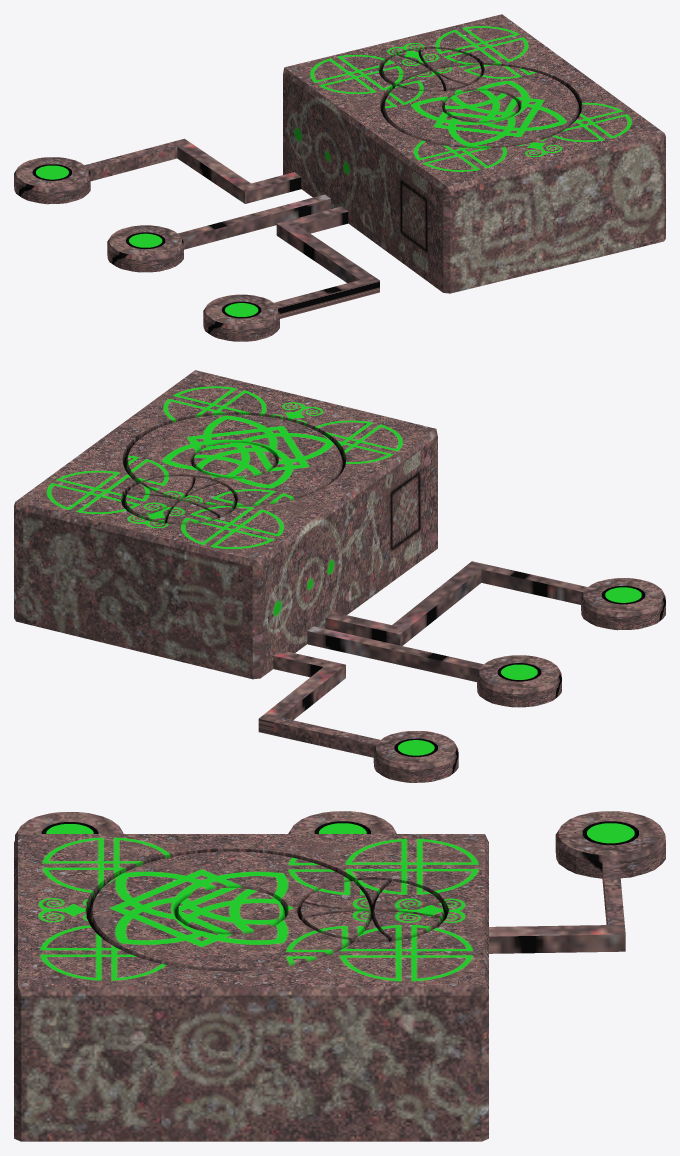
File: puzzle.fbx
3 renders of one model, top to bottom at view 1: azimuth 30°, elevation 25°; view 2: azimuth 150°, elevation 25°; view 3: azimuth 270°, elevation 25°, orthographic. The views are drawn at different scales.
Visible parts, largest first — view 1: BASE, circulo mayor, circulo menor, seccionado.002, seccionado.001, seccionado.003, seccionado.004; view 2: BASE, circulo mayor, circulo menor, seccionado.001, seccionado.002, seccionado.004, seccionado.003; view 3: BASE, circulo mayor, circulo menor, seccionado.002, seccionado.001, seccionado.004, seccionado.003, seccionado.008.
Part boxes in pixels (left/top/right/bottom): BASE: left=14, top=14, right=665, bottom=341; circulo mayor: left=383, top=64, right=579, bottom=148; circulo menor: left=443, top=90, right=519, bottom=122; seccionado.002: left=419, top=48, right=466, bottom=71; seccionado.001: left=433, top=64, right=482, bottom=85; seccionado.003: left=381, top=55, right=430, bottom=78; seccionado.004: left=397, top=70, right=444, bottom=91; BASE: left=14, top=370, right=665, bottom=782; circulo mayor: left=125, top=414, right=342, bottom=507; circulo menor: left=192, top=442, right=276, bottom=478; seccionado.001: left=142, top=476, right=194, bottom=501; seccionado.002: left=124, top=493, right=178, bottom=517; seccionado.004: left=181, top=483, right=236, bottom=509; seccionado.003: left=166, top=500, right=218, bottom=524; BASE: left=14, top=811, right=665, bottom=1141; circulo mayor: left=89, top=851, right=351, bottom=971; circulo menor: left=175, top=888, right=285, bottom=934; seccionado.002: left=372, top=911, right=441, bottom=941; seccionado.001: left=302, top=911, right=371, bottom=943; seccionado.004: left=303, top=881, right=371, bottom=914; seccionado.003: left=372, top=881, right=439, bottom=914; seccionado.008: left=356, top=879, right=389, bottom=918.
Size of the model in its own units: 222 by 51.38 by 197.
Materials: 1 (1 with a texture image).
